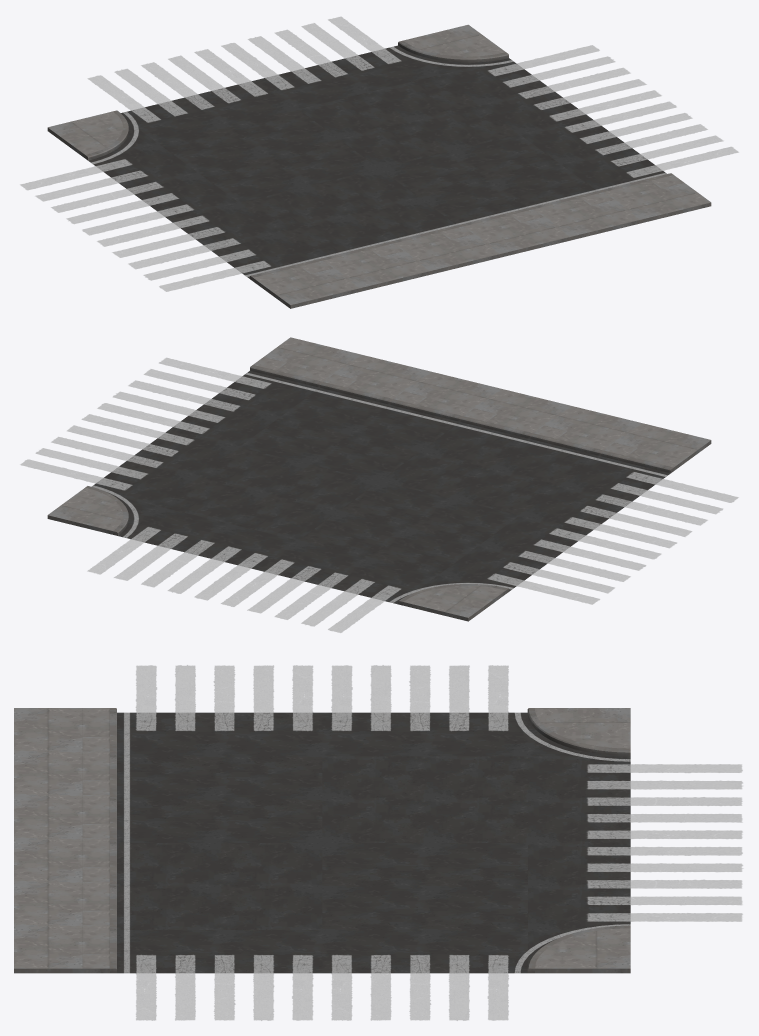
Rendered from Street_TIntersection.glb.
3 views of the same model, one above another, from view 1: azimuth 30°, elevation 25°; view 2: azimuth 150°, elevation 25°; view 3: azimuth 270°, elevation 25° (orthographic). The views are drawn at different scales.
Parts seen in each view (by area): view 1: Street_TIntersection; view 2: Street_TIntersection; view 3: Street_TIntersection.
Part boxes in pixels (<box>): Street_TIntersection: <box>20,16,738,308</box>; Street_TIntersection: <box>20,337,738,632</box>; Street_TIntersection: <box>14,665,742,1020</box>.
Bounding box in the file's own units: 24.67 × 0.1506 × 21.33.
Materials: 3 (3 with a texture image).
